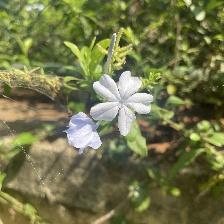chitrak: (92, 70, 154, 137)
